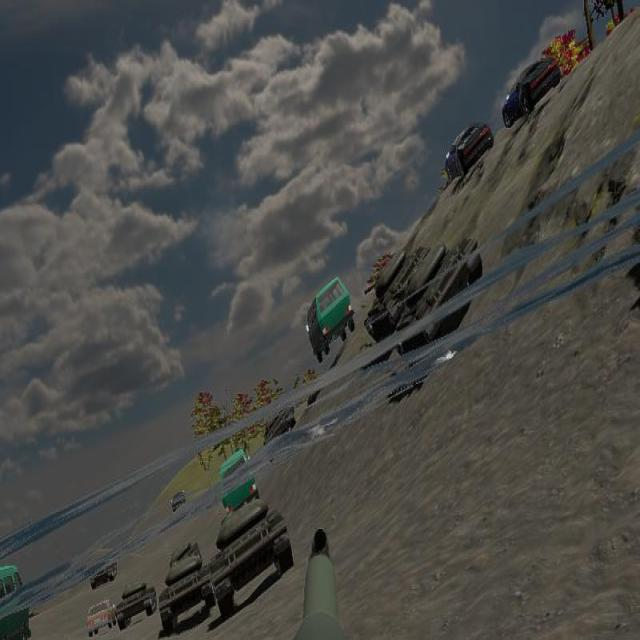Tank: (395, 234, 483, 343), (212, 498, 293, 615), (212, 498, 293, 612), (365, 237, 431, 341), (159, 553, 213, 636), (117, 579, 156, 629), (90, 556, 118, 589)
car: (501, 54, 561, 127), (306, 276, 354, 363), (444, 121, 495, 181), (220, 450, 258, 513), (0, 565, 31, 640), (87, 598, 116, 637)
